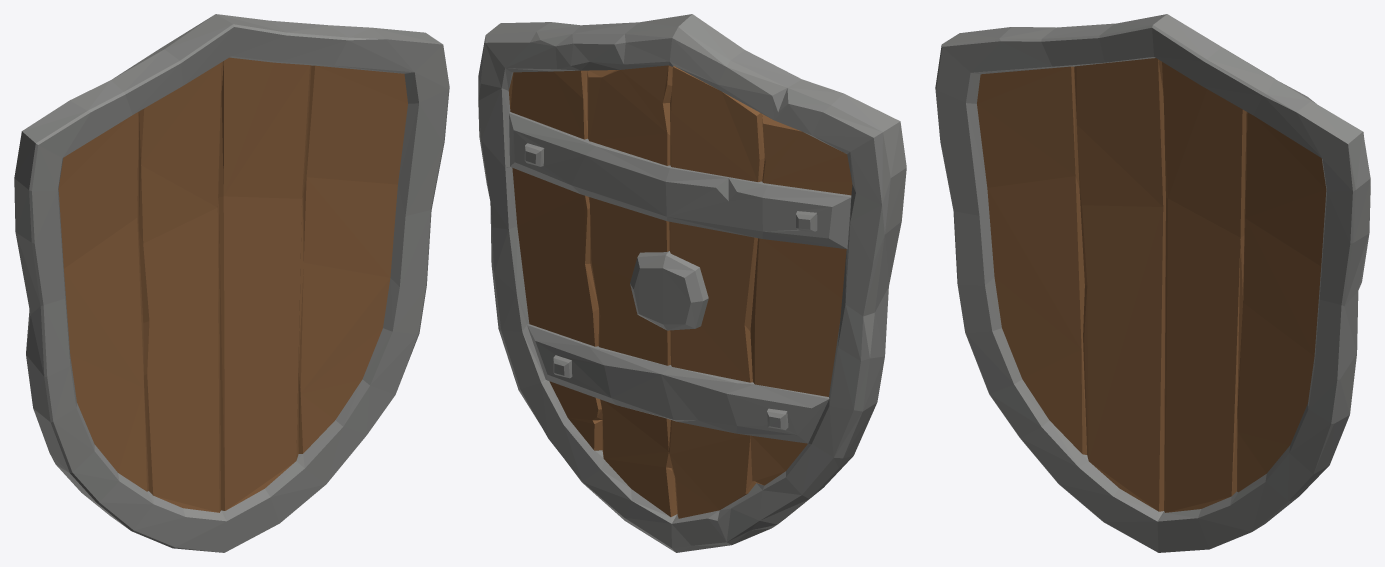
Rendered from MedievalShield.fbx.
3 views of the same model, side by side, from view 1: azimuth 30°, elevation 25°; view 2: azimuth 150°, elevation 25°; view 3: azimuth 330°, elevation 25° (orthographic).
Parts seen in each view (by area): view 1: MedievalShield; view 2: MedievalShield; view 3: MedievalShield.
Part boxes in pixels (box(x1,y1,x2,y2)): MedievalShield: box(14, 14, 449, 552); MedievalShield: box(478, 14, 906, 552); MedievalShield: box(935, 14, 1370, 552).
Bounding box in the file's own units: 0.5374 × 0.0875 × 0.6522.
